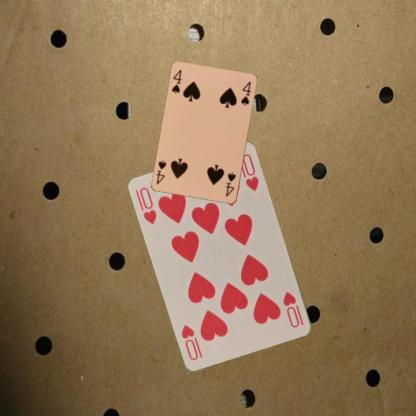10h: (137, 184, 158, 226), (281, 289, 301, 329)
4s: (223, 170, 237, 197), (169, 68, 183, 95)
